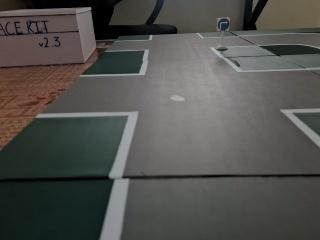right: (216, 12, 235, 36)
